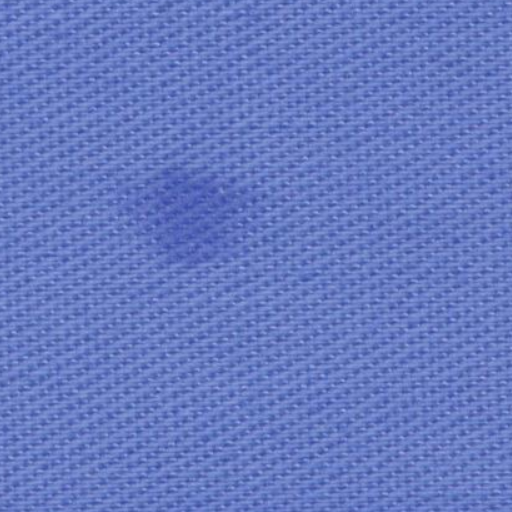WuZi: (117, 155, 288, 298)
